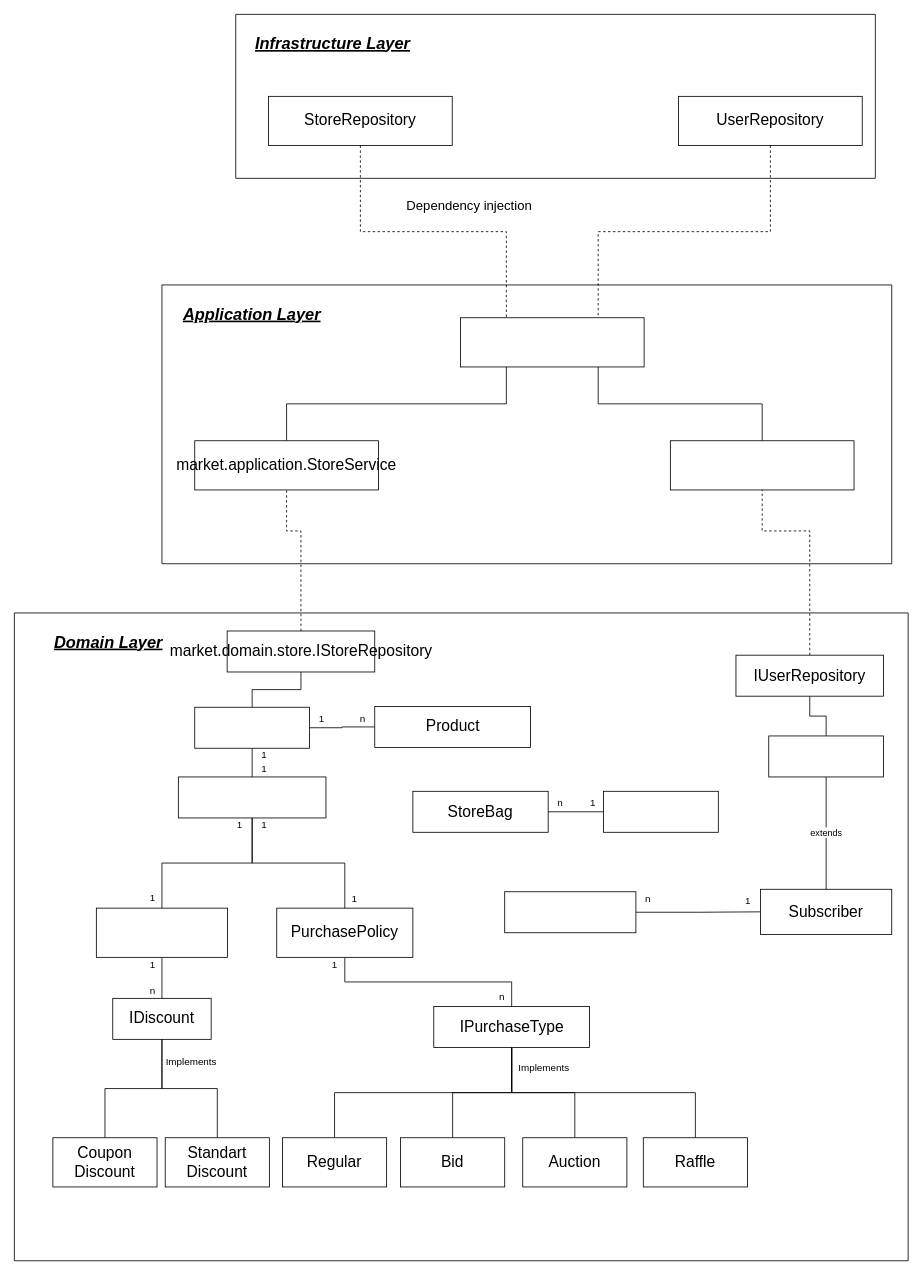
Some shapes in this 923 by 1275 pixel diagram are drawn without their labels. The shapes that lost their labels are listed below. From the top down, each one's box as (x1, y1, x2, y2) in pixels, then its label:
(460, 317, 644, 367): PaymentService
(670, 440, 854, 490): UserService
(194, 706, 310, 748): market.domain.store.Store
(768, 735, 884, 777): User
(178, 776, 326, 818): PolicyHandler
(603, 790, 718, 832): ShoppingCart
(96, 907, 228, 957): DiscountPolicy
(504, 891, 636, 933): ShippingAdress
